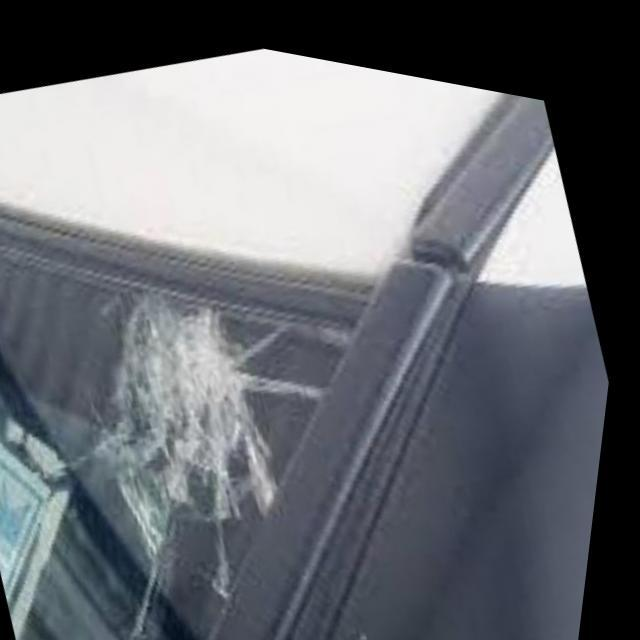glass shatter: (117, 291, 298, 515)
